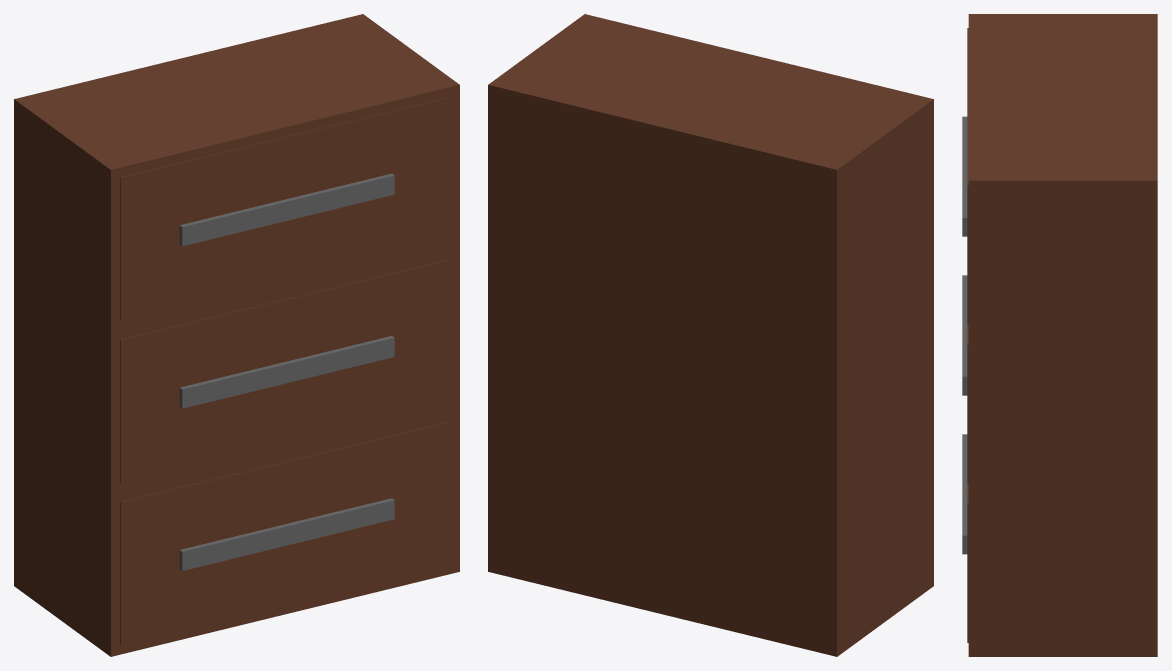
File: wc_mueble_baño.fbx
The picture shows the model from 3 angles, left to right: view 1: azimuth 30°, elevation 25°; view 2: azimuth 150°, elevation 25°; view 3: azimuth 270°, elevation 25°; orthographic projection. The views are drawn at different scales.
Parts seen in each view (by area): view 1: mueble_baño, cajon3, cajon2, cajon1; view 2: mueble_baño; view 3: mueble_baño, cajon1, cajon2, cajon3.
Boxes of the visible parts, left/top/right/bottom form: mueble_baño: left=14, top=14, right=459, bottom=656; cajon3: left=120, top=421, right=450, bottom=645; cajon2: left=120, top=259, right=450, bottom=482; cajon1: left=120, top=97, right=450, bottom=320; mueble_baño: left=488, top=14, right=933, bottom=656; mueble_baño: left=968, top=14, right=1157, bottom=656; cajon1: left=962, top=28, right=968, bottom=325; cajon2: left=962, top=275, right=968, bottom=484; cajon3: left=962, top=434, right=968, bottom=642.
Size of the model in its own units: 75 by 100 by 37.2.
